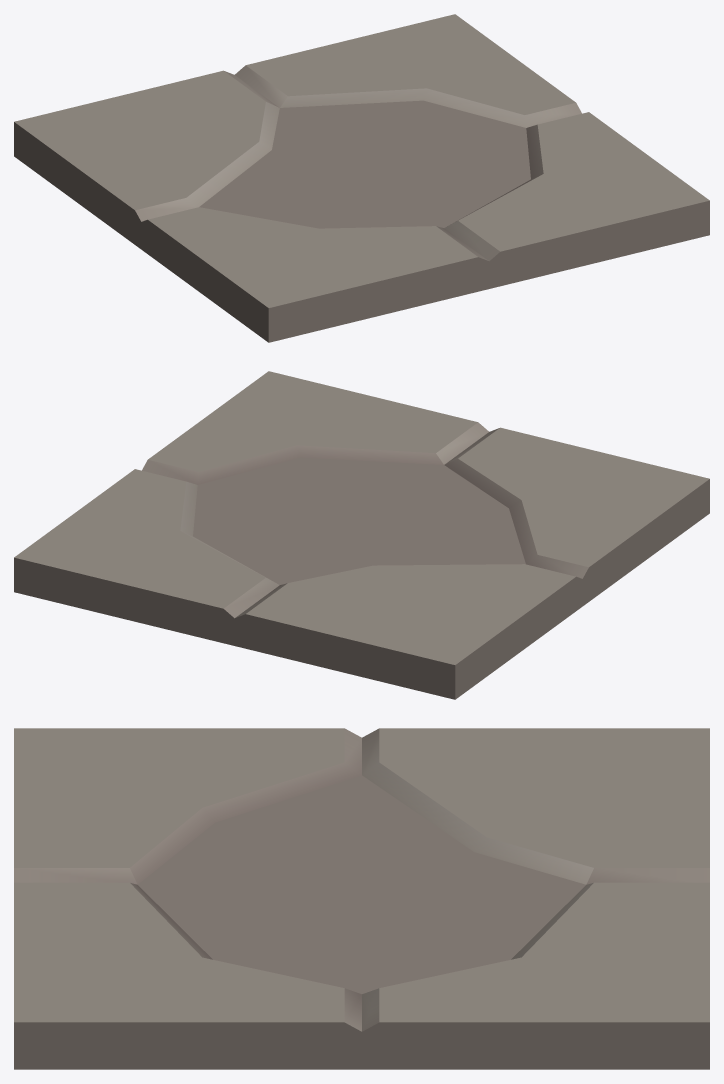
File: floor_c.fbx
3 views of the same model, one above another, from view 1: azimuth 30°, elevation 25°; view 2: azimuth 150°, elevation 25°; view 3: azimuth 270°, elevation 25° (orthographic). The views are drawn at different scales.
Parts seen in each view (by area): view 1: floor_tile_small_broken_B; view 2: floor_tile_small_broken_B; view 3: floor_tile_small_broken_B.
Boxes of the visible parts, bbox=[...] form: floor_tile_small_broken_B: bbox=[14, 14, 709, 342]; floor_tile_small_broken_B: bbox=[14, 371, 709, 699]; floor_tile_small_broken_B: bbox=[14, 728, 709, 1069].
Bounding box in the file's own units: 200 × 15 × 200.
1 material, 1 textured.
